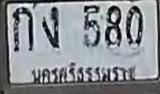0: (125, 5, 143, 46)
5: (83, 4, 100, 47)
8: (104, 5, 121, 48)
A01: (12, 6, 33, 51)
A07: (41, 6, 60, 48)
NST: (29, 61, 138, 84)
